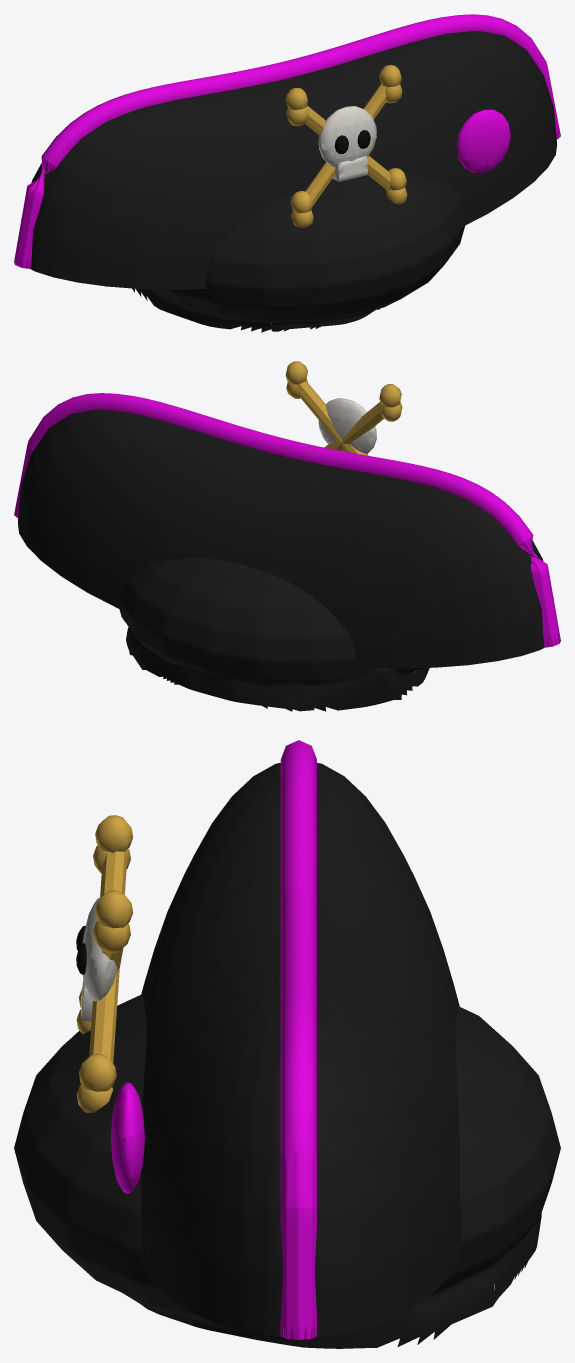
File: hat_bicorne_male_hi.glb
3 renders of one model, top to bottom at view 1: azimuth 30°, elevation 25°; view 2: azimuth 150°, elevation 25°; view 3: azimuth 270°, elevation 25°, orthographic. The views are drawn at different scales.
Parts seen in each view (by area): view 1: hat_bicorne_v5_male; view 2: hat_bicorne_v5_male; view 3: hat_bicorne_v5_male.
Part boxes in pixels (x1,y1,x2,y2): hat_bicorne_v5_male: (14, 14, 560, 332); hat_bicorne_v5_male: (14, 361, 560, 711); hat_bicorne_v5_male: (14, 740, 560, 1348).
Size of the model in its own units: 1.14 by 0.4763 by 0.6016.
